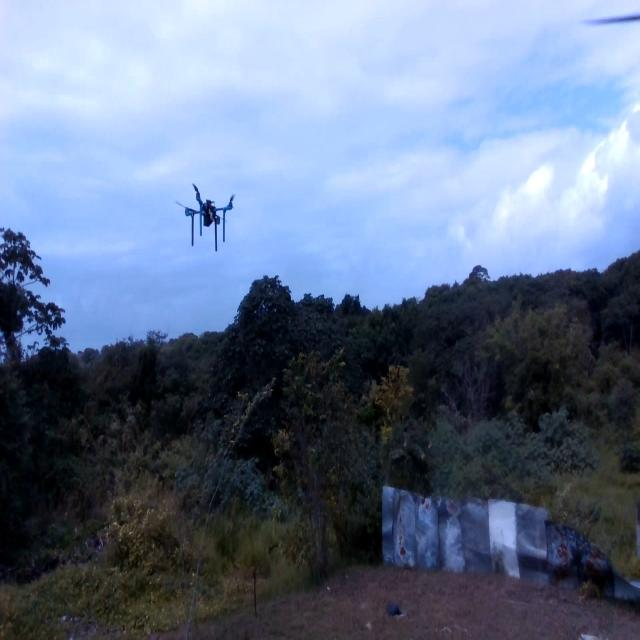-uav-: (162, 168, 246, 261)
